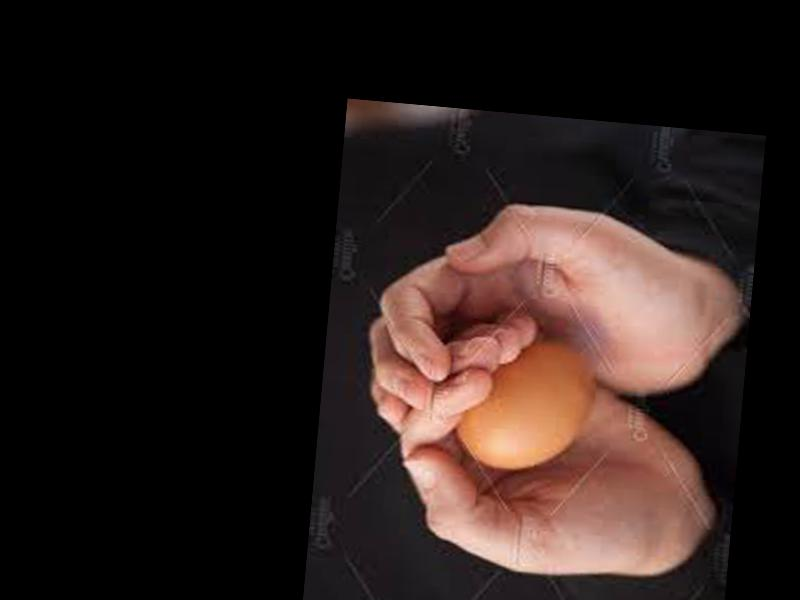Eggs: (457, 327, 600, 477)
